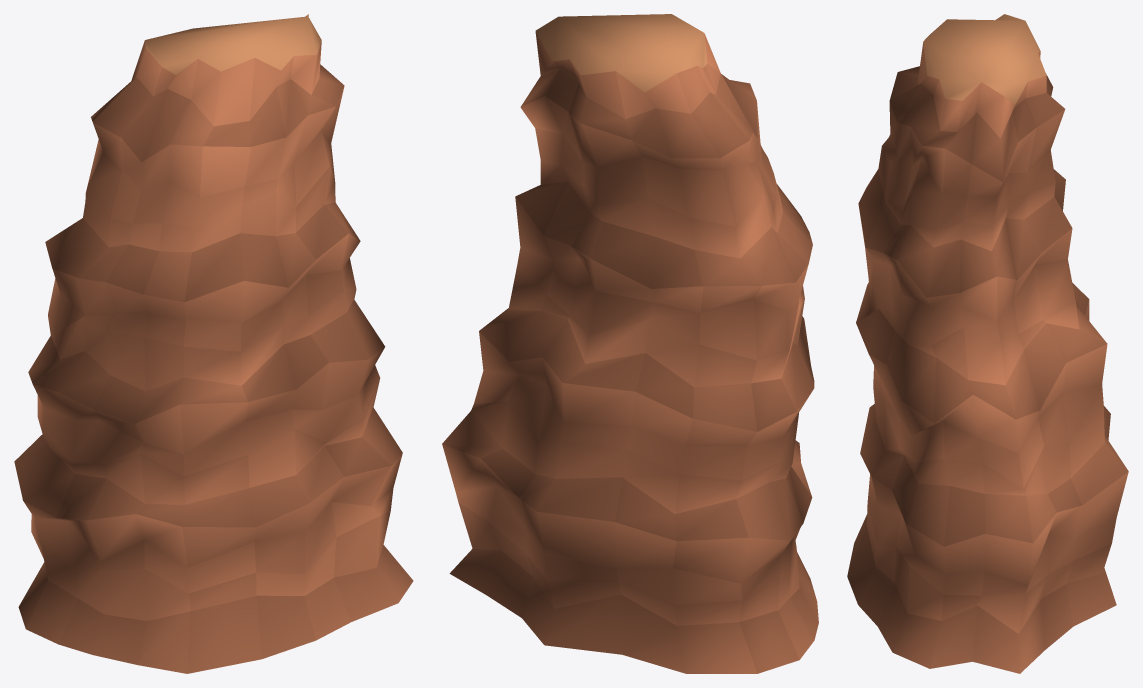
File: cliff-strata.glb
3 views of the same model, side by side, from view 1: azimuth 30°, elevation 25°; view 2: azimuth 150°, elevation 25°; view 3: azimuth 270°, elevation 25° (orthographic). The views are drawn at different scales.
Visible parts, largest first — view 1: cliff-strata; view 2: cliff-strata; view 3: cliff-strata.
Part boxes in pixels (left/top/right/bottom): cliff-strata: left=14, top=14, right=413, bottom=673; cliff-strata: left=442, top=14, right=818, bottom=673; cliff-strata: left=847, top=14, right=1128, bottom=673.
Size of the model in its own units: 73.59 by 113 by 52.37.
